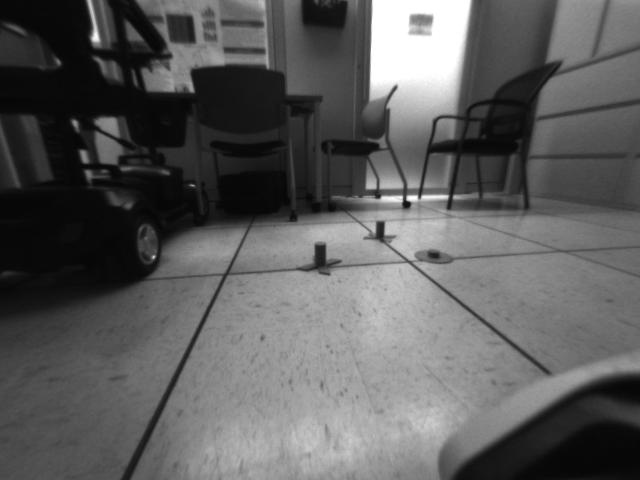X: (295, 238, 341, 277), (364, 219, 395, 241)
